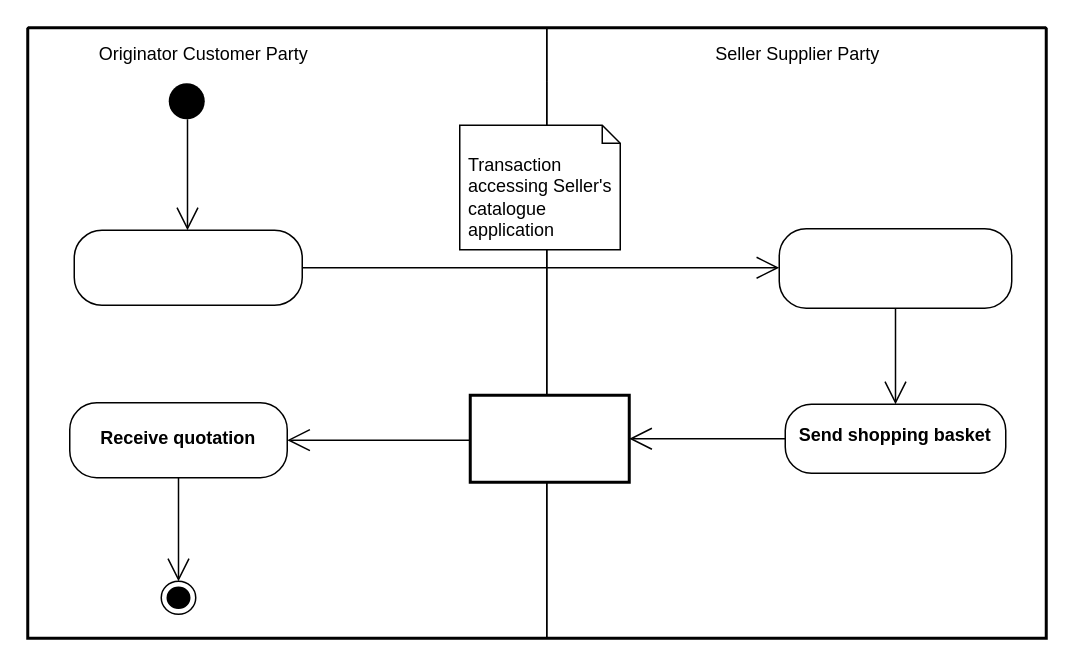
The diagram is 1073 pixels wide and 665 high, and some of its shapes have lost their labels. Here are the shapes that lost their labels. From the top down, the box of each, then its label:
(73, 229, 302, 305): Initiate a punchout session
(778, 227, 1012, 308): Build shopping basket
(468, 393, 630, 483): Quotation
